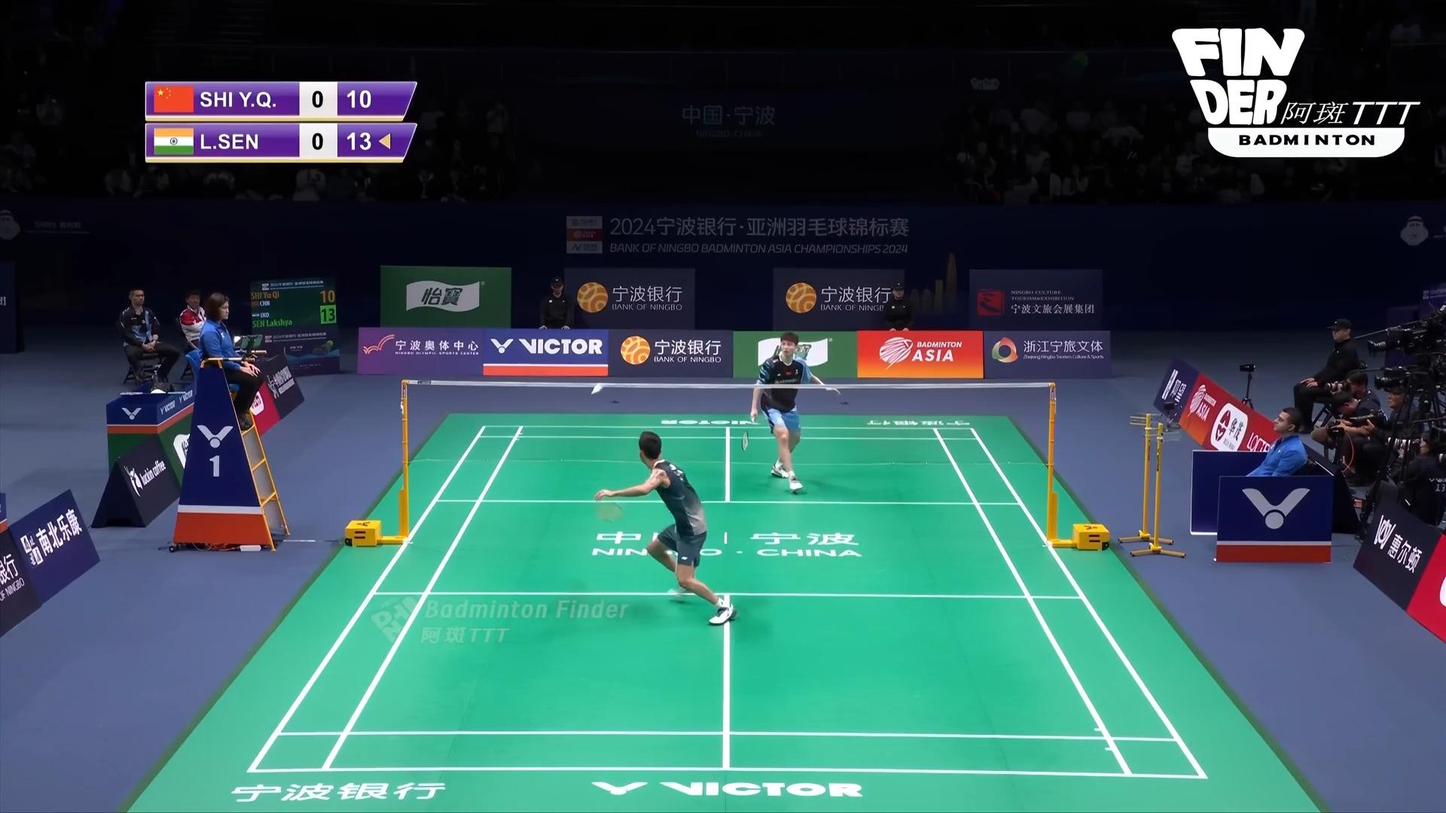player: (596, 431, 735, 627), (748, 332, 836, 493)
shuttlecock: (590, 382, 604, 396)
